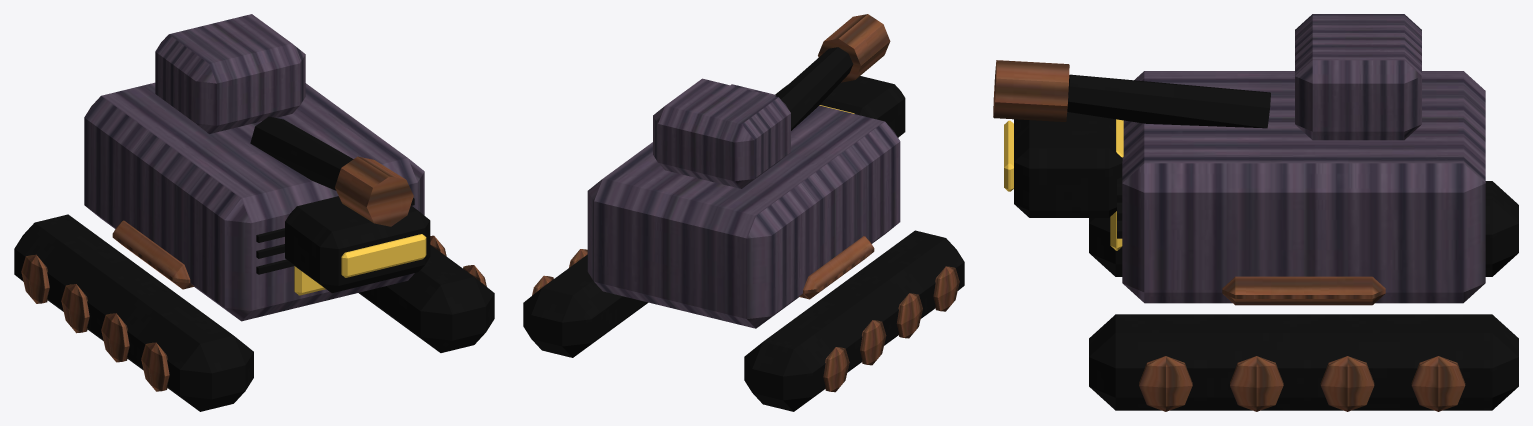
File: mon_cons_03.glb
3 views of the same model, side by side, from view 1: azimuth 30°, elevation 25°; view 2: azimuth 150°, elevation 25°; view 3: azimuth 270°, elevation 25° (orthographic). The views are drawn at different scales.
Visible parts, largest first — view 1: mon_cons_03; view 2: mon_cons_03; view 3: mon_cons_03.
Boxes of the visible parts, x1,y1,x2,y2 form: mon_cons_03: (14,14,494,411); mon_cons_03: (523,14,964,411); mon_cons_03: (993,14,1518,411).
Bounding box in the file's own units: 0.5911 × 0.4458 × 0.7141.
4 materials, 4 textured.
